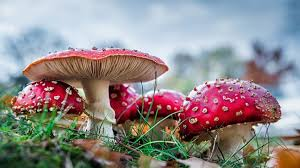Amanita muscaria: (20, 40, 171, 113), (175, 72, 284, 145), (8, 73, 86, 123)
